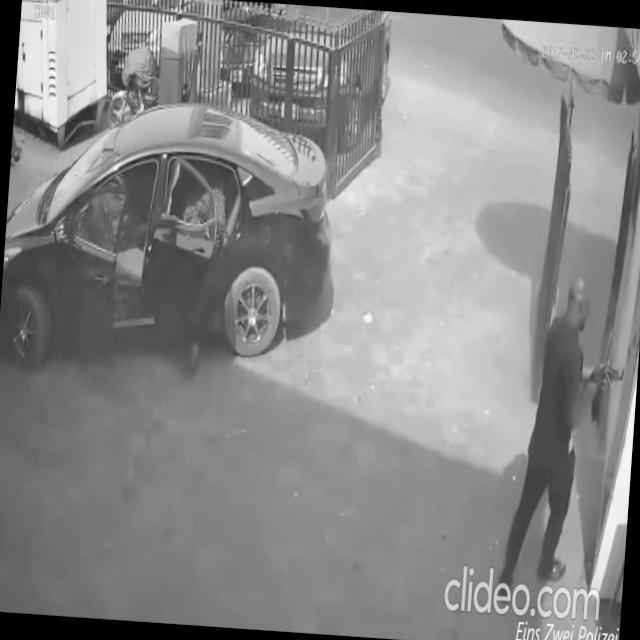gun: (582, 354, 626, 428), (203, 214, 240, 256)
person with a gun: (496, 266, 634, 616), (168, 163, 244, 380)
